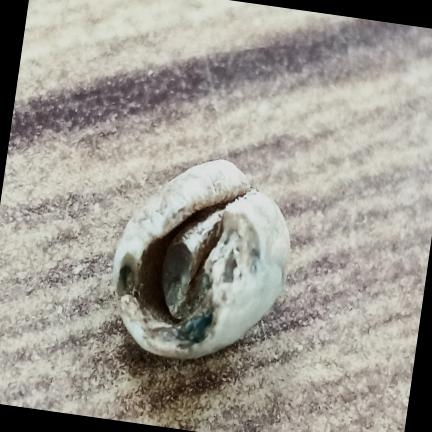cut: (113, 159, 289, 358)
